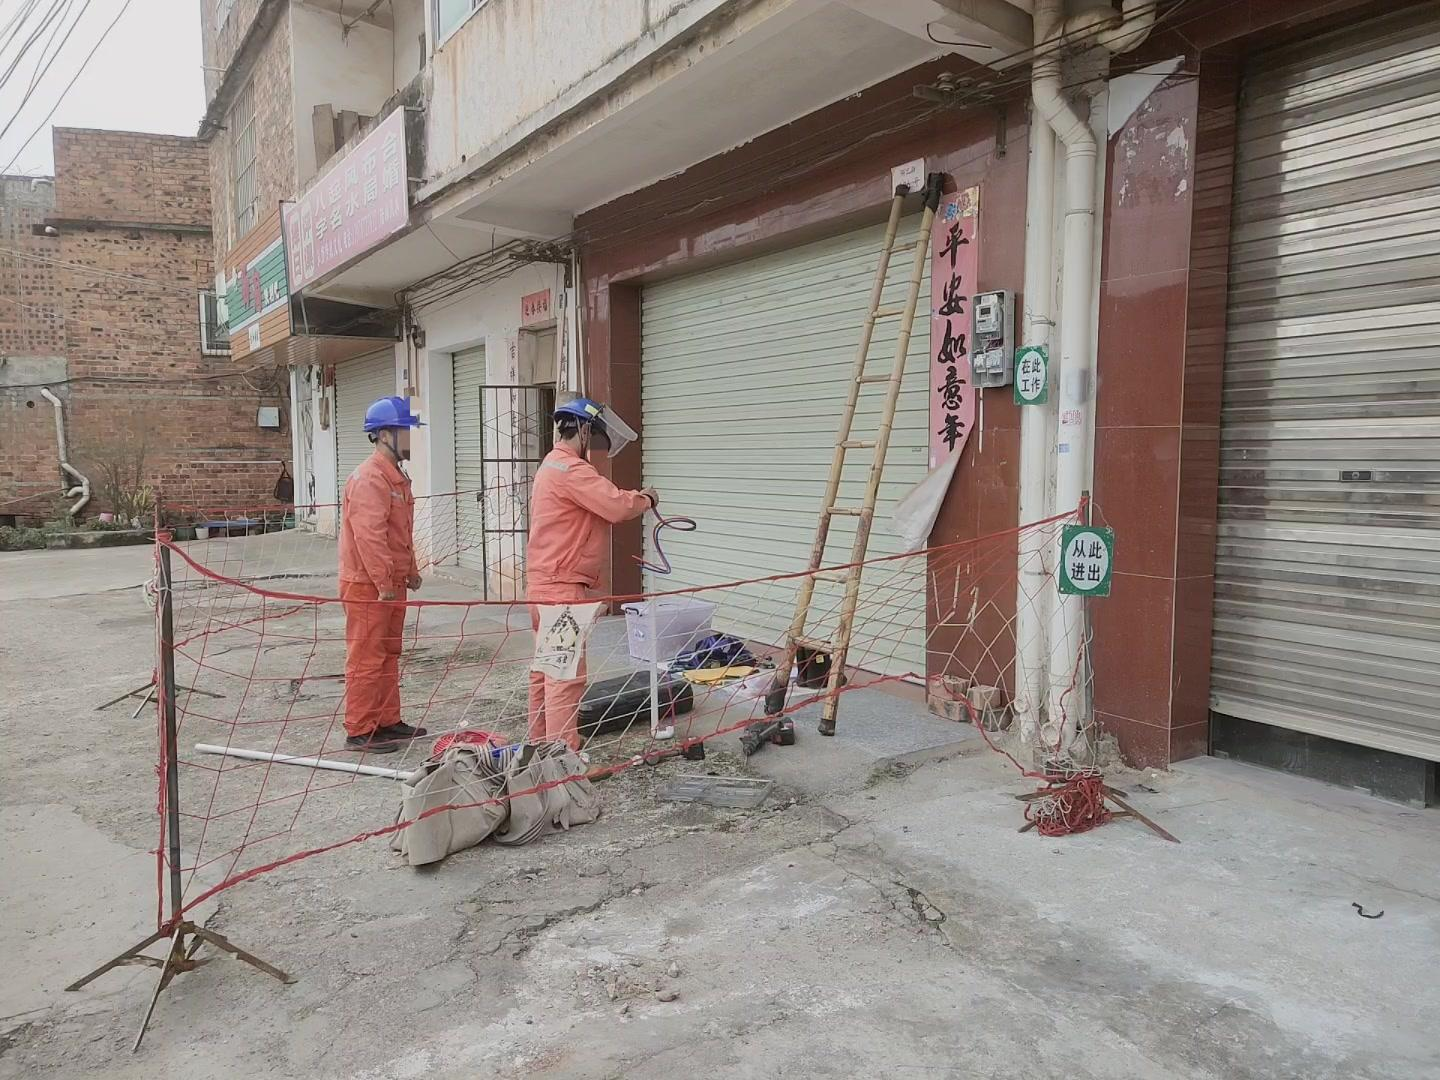halt: (552, 398, 639, 457), (364, 400, 423, 462)
inear: (376, 424, 400, 453), (575, 419, 598, 448)
